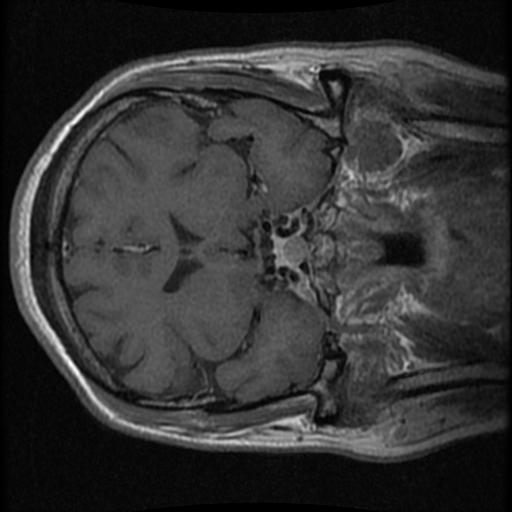pituitary tumour: (273, 235, 306, 266)
